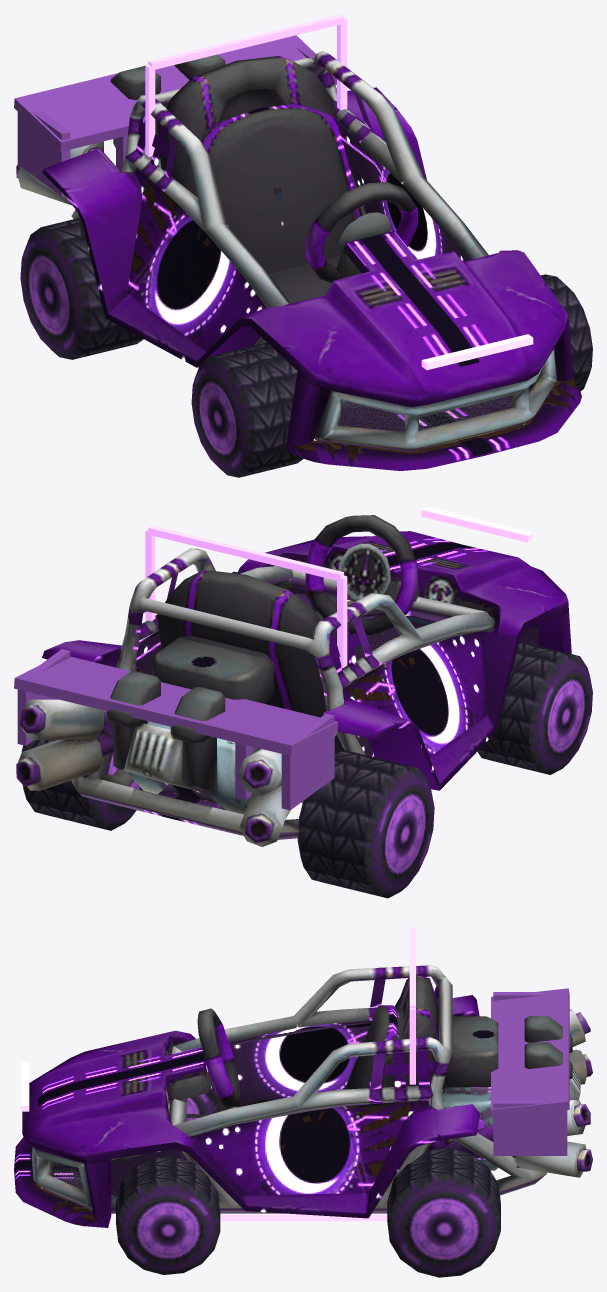
File: kart_4_Duy_Phantom_S-Eclipse_X.glb
The picture shows the model from 3 angles, top to bottom: view 1: azimuth 30°, elevation 25°; view 2: azimuth 150°, elevation 25°; view 3: azimuth 270°, elevation 25°; orthographic projection. The views are drawn at different scales.
Parts seen in each view (by area): view 1: kartModel, tireTest (2), Wing, tireTest (1), ThemeExtras, tireTest (3), NeonStrips; view 2: kartModel, tireTest (1), Wing, tireTest (2), ThemeExtras, tireTest, NeonStrips; view 3: kartModel, tireTest, Wing, tireTest (3), NeonStrips, ThemeExtras, tireTest (2).
Boxes of the visible parts, box(x1,y1,x2,y2) form: kartModel: box(16, 51, 581, 470); tireTest (2): box(191, 342, 303, 477); Wing: box(14, 35, 336, 196); tireTest (1): box(20, 218, 143, 359); ThemeExtras: box(145, 14, 347, 156); tireTest (3): box(541, 274, 592, 391); NeonStrips: box(421, 334, 533, 370); kartModel: box(16, 515, 571, 846); tireTest (1): box(297, 750, 434, 898); Wing: box(14, 649, 337, 810); tireTest (2): box(477, 641, 592, 774); ThemeExtras: box(145, 525, 347, 667); tireTest: box(21, 740, 143, 830); NeonStrips: box(421, 506, 533, 542); kartModel: box(14, 965, 592, 1227); tireTest: box(387, 1148, 500, 1277); Wing: box(491, 988, 569, 1155); tireTest (3): box(116, 1156, 220, 1274); NeonStrips: box(21, 1062, 387, 1221); ThemeExtras: box(409, 927, 415, 1084); tireTest (2): box(186, 1093, 217, 1121).
Size of the model in its own units: 0.0167 by 0.0129 by 0.0281.
5 materials, 2 textured.
